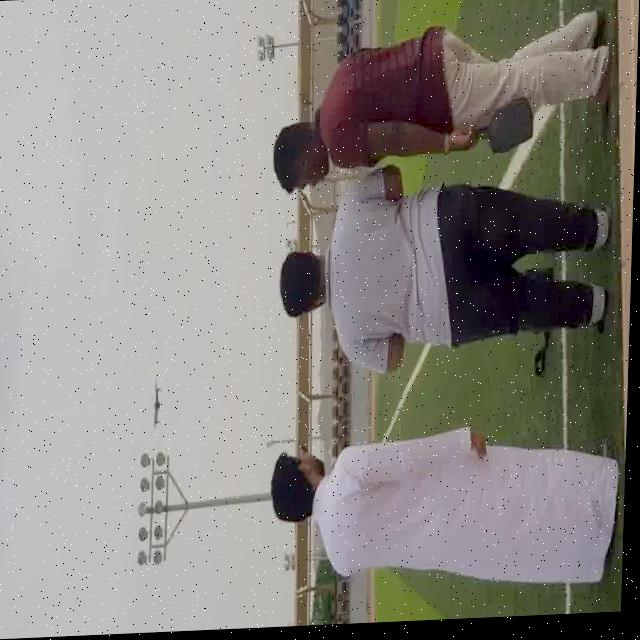drone: (152, 378, 173, 440)
